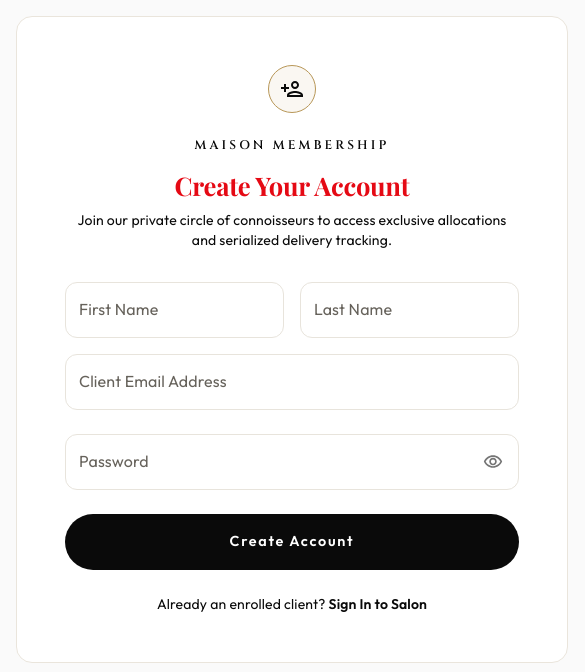
Test: Stage 9B: Auth UI, Password Policy, and Session Remediation › Task 1: RegisterPage Visibility & Policy › 6. Password validation boundary: rejects invalid password lengths on RegisterPage
Type "Jean" into the field labelled "First Name".
click(174, 310); type("Jean")  # box [65, 282, 284, 338]
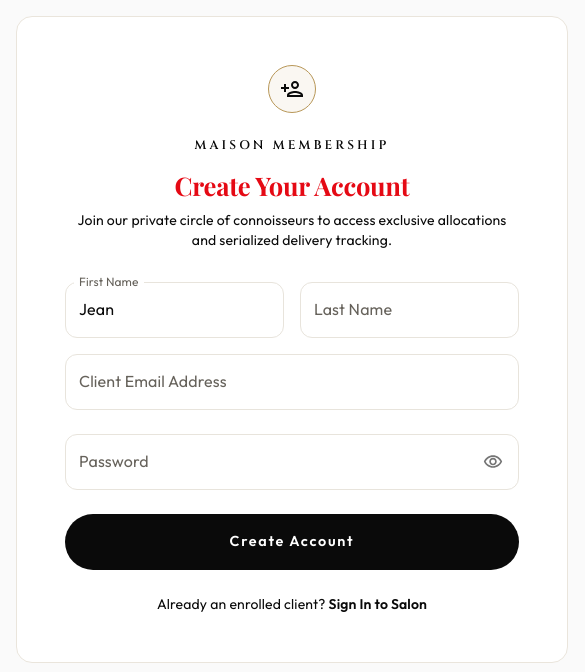
Type "Valjean" into the field labelled "Last Name".
click(410, 310); type("Valjean")  # box [300, 282, 519, 338]
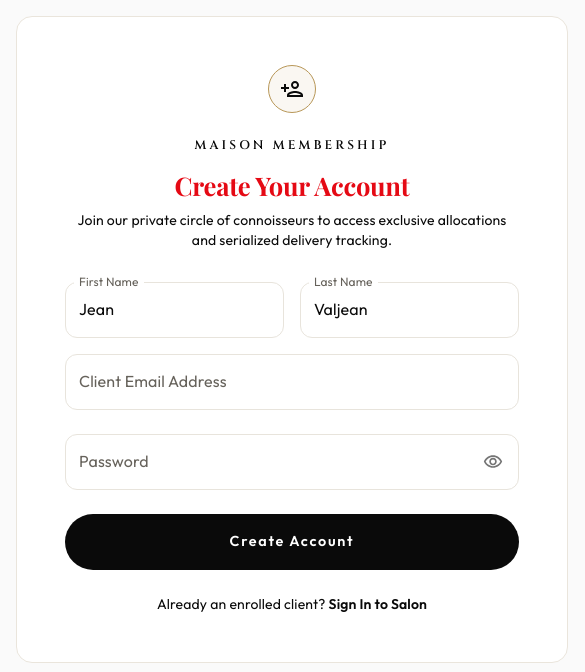
Type "jean@lumiere.com" into the field labelled "Client Email Address".
click(292, 382); type("jean@lumiere.com")  # box [65, 354, 519, 410]
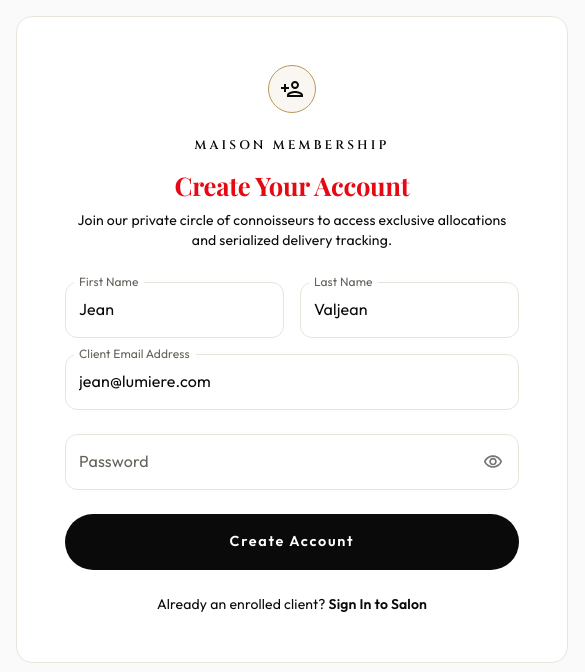
7 chars: too short
Type "short7!" into the password field labelled "Password".
click(268, 462); type("short7!")  # box [65, 434, 470, 490]
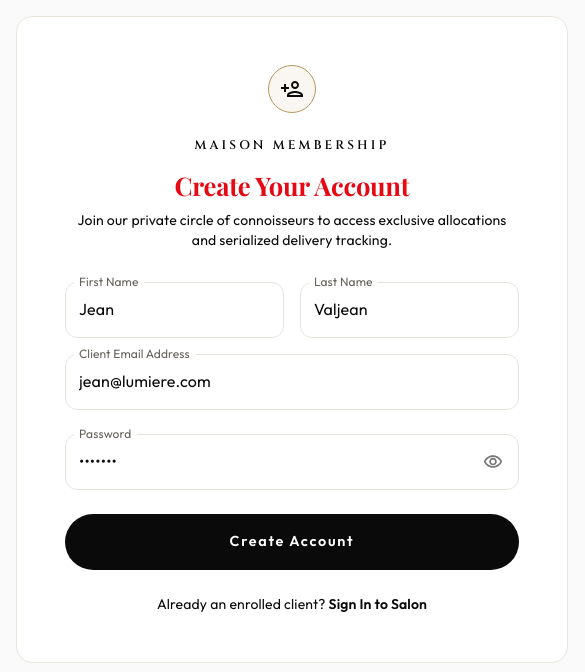
Click the button "Create Account".
click(292, 542)  # box [65, 514, 519, 570]
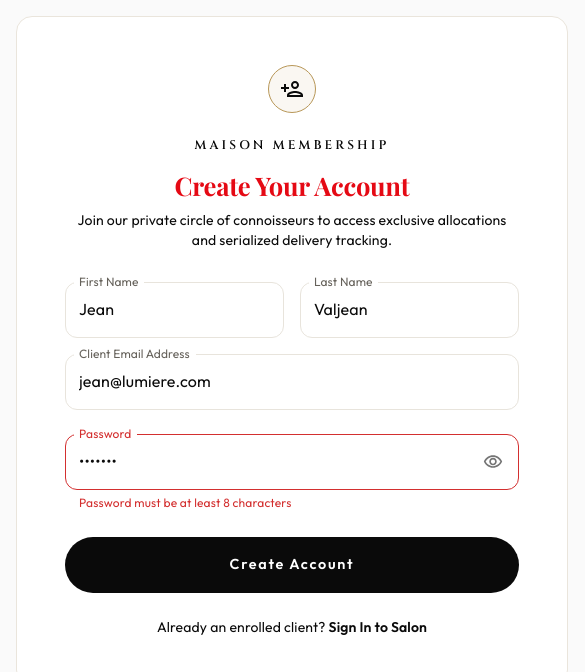
Now the text "Password must be at least 8 characters" is shown, box [79, 495, 291, 510]
